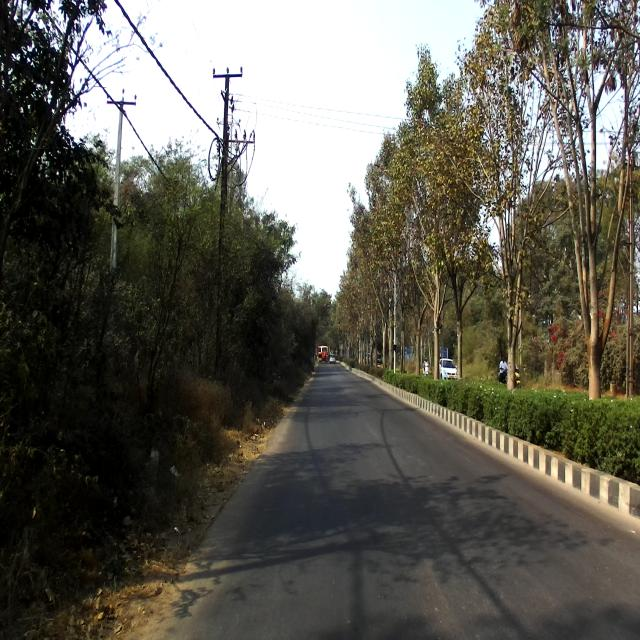electric pole ahead at: (204, 48, 252, 434)
